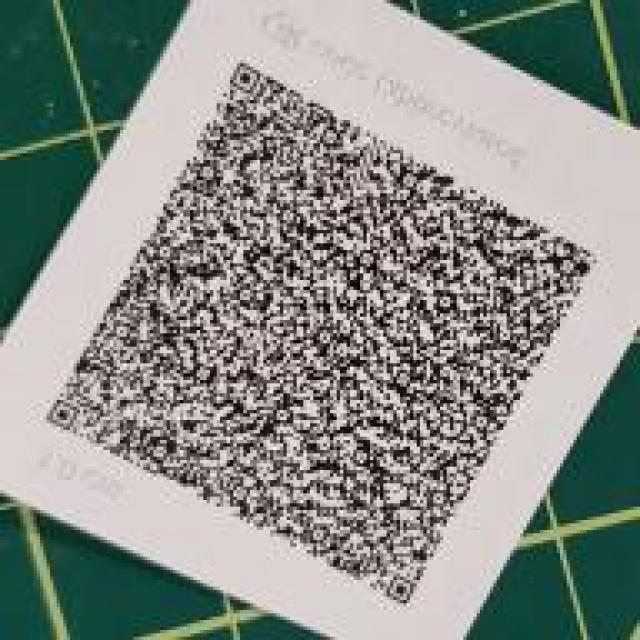QR_CODE: (26, 54, 612, 624)
